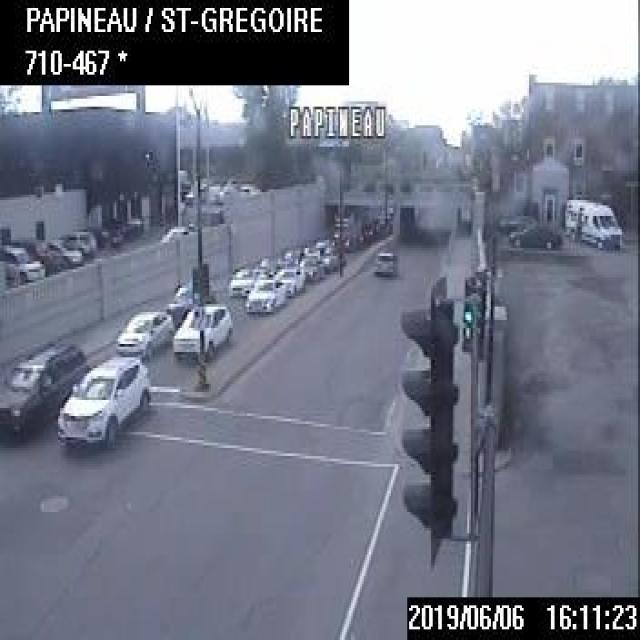pedestrian: (572, 208, 580, 251)
vehicle: (55, 353, 151, 452), (0, 336, 85, 442), (560, 195, 626, 253), (170, 296, 231, 357), (114, 305, 172, 358), (0, 241, 45, 283), (507, 217, 562, 249), (242, 274, 288, 312), (22, 238, 64, 274), (46, 236, 82, 266), (60, 229, 93, 257), (274, 265, 306, 293), (227, 264, 254, 293), (296, 252, 323, 279), (319, 246, 345, 270), (372, 248, 394, 275)
